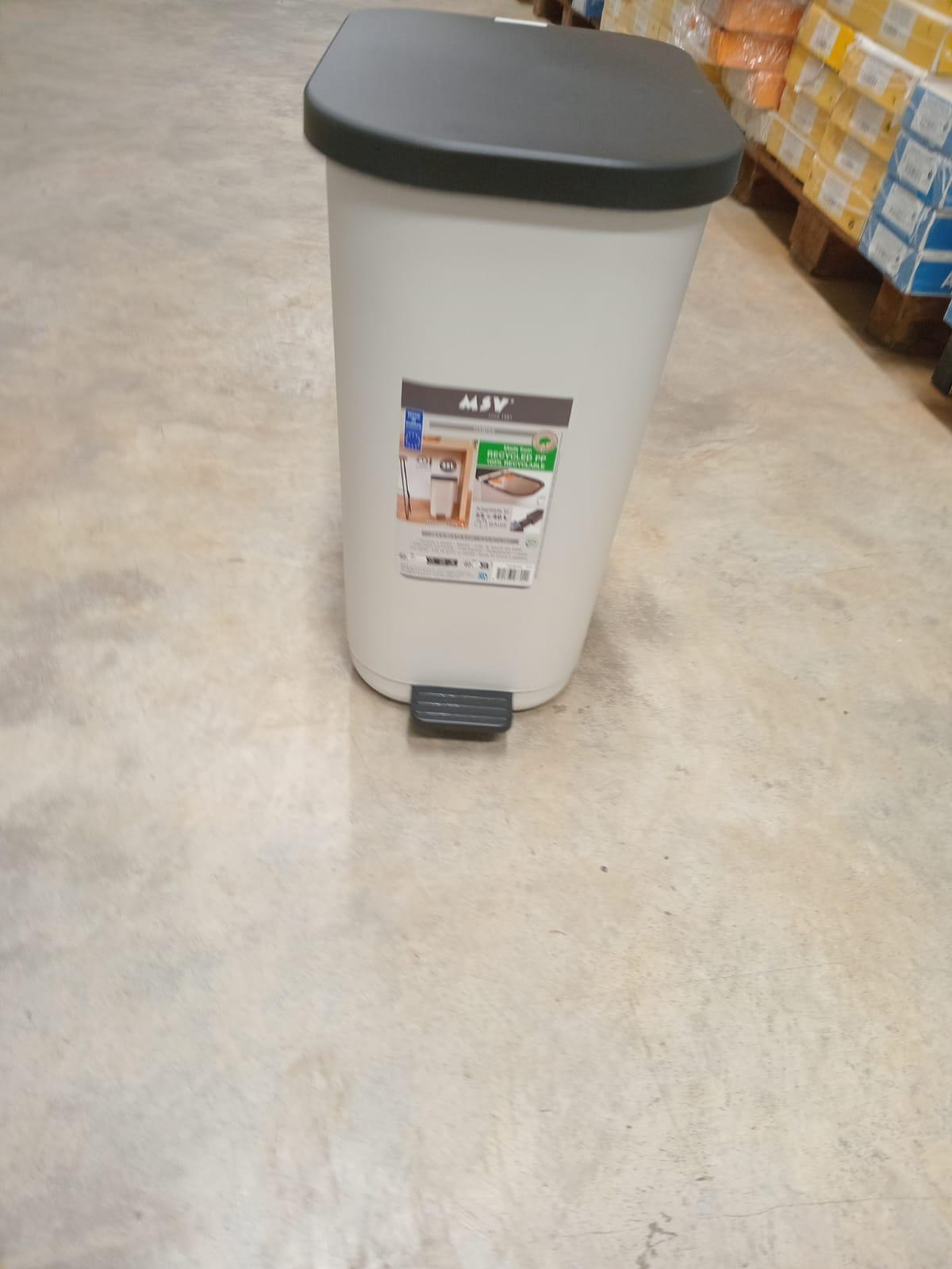bin: (302, 8, 747, 738)
